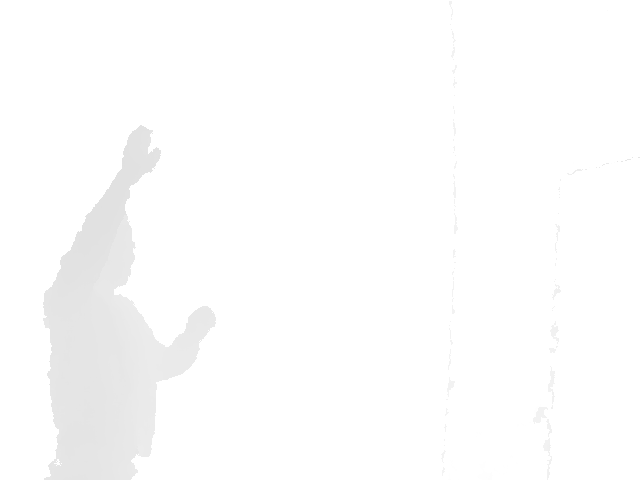hand: (113, 124, 162, 181), (174, 306, 217, 342)
head: (88, 209, 136, 287)
person: (41, 124, 217, 479)
